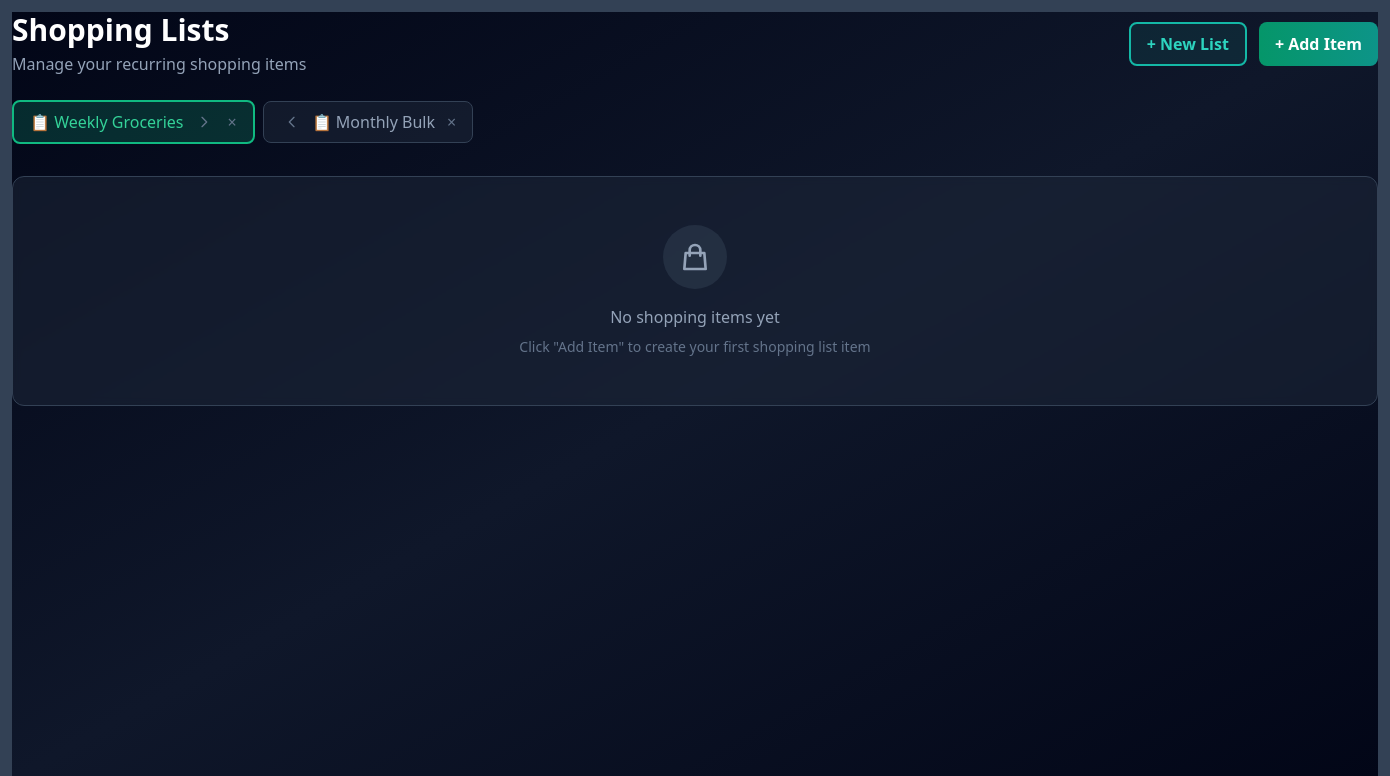
Test case: ShoppingManager Component › Item Management › should open add item form
Click the button "+ Add Item" at (1318, 44), box [1259,22,1378,66]
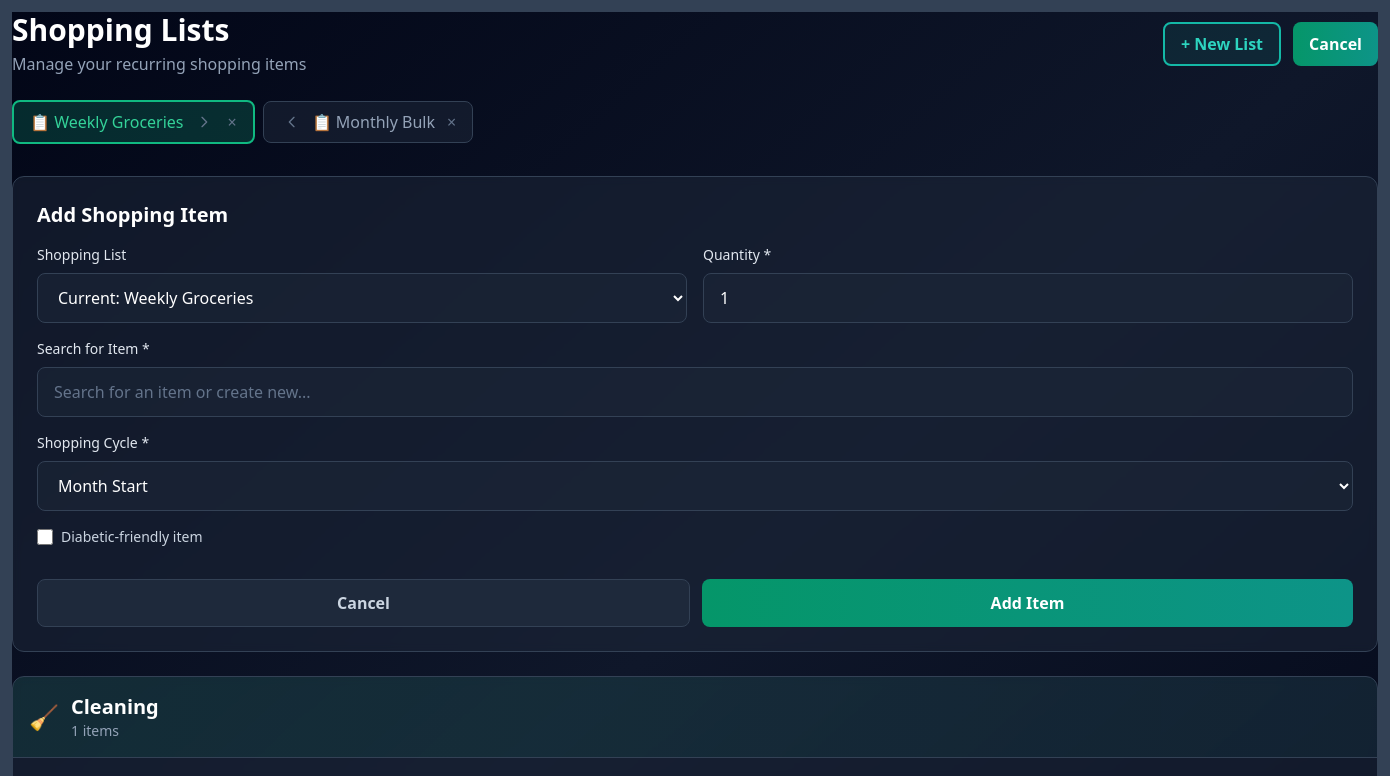
expect the heading "Add Shopping Item" is shown: met, box [37,201,228,228]
